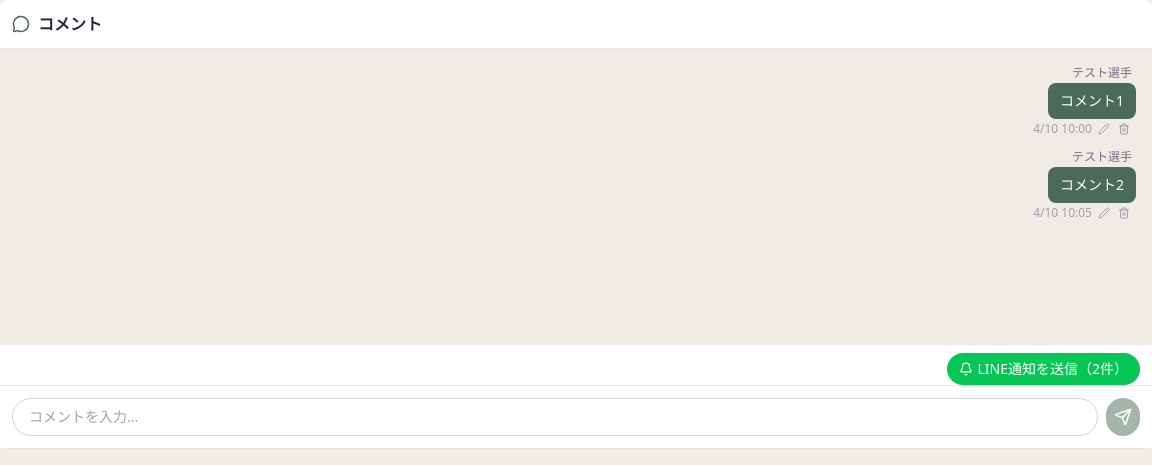
Test: MatchCommentThread LINE通知 › FAILED時にエラーメッセージが表示される
Step 1. Click the button "LINE通知を送信（2件）" → (1044, 369), box [948,353,1140,385]
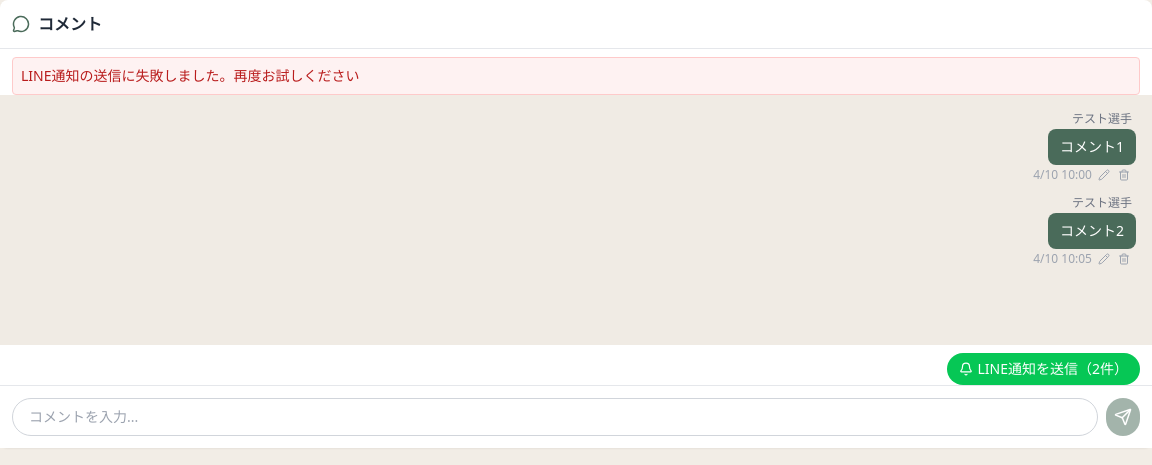
Expected: the text "LINE通知の送信に失敗しました。再度お試しください" is shown, [12,57,1140,95]
